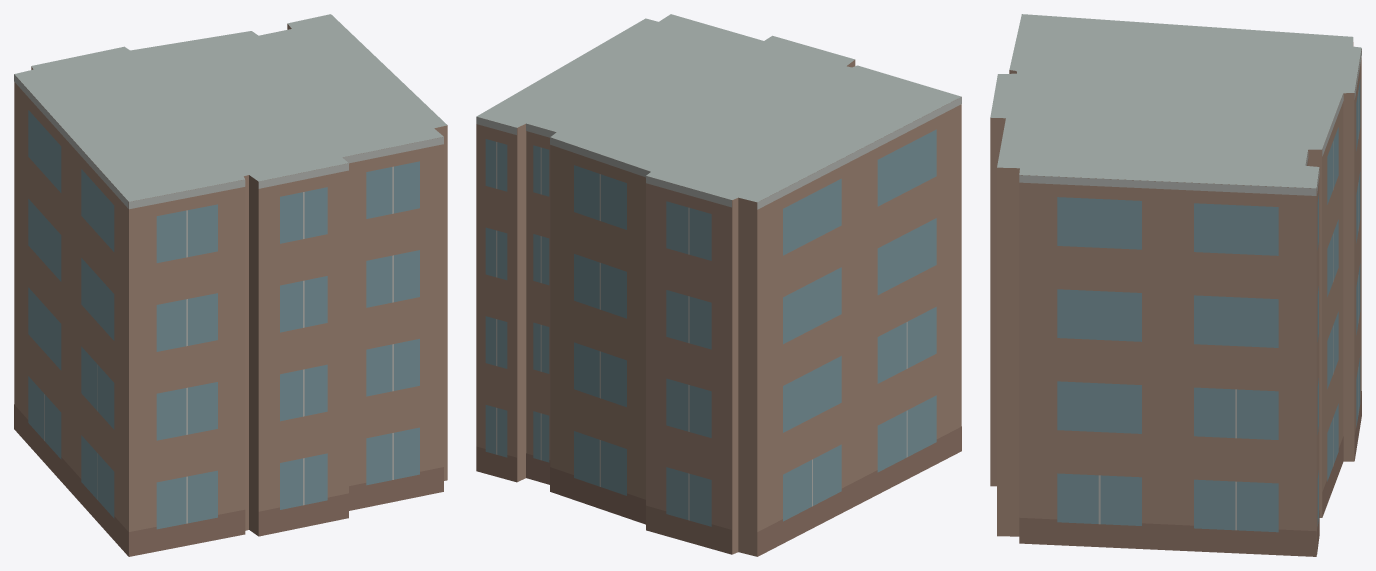
File: survey-upis-32808822.glb
The picture shows the model from 3 angles, left to right: view 1: azimuth 30°, elevation 25°; view 2: azimuth 150°, elevation 25°; view 3: azimuth 270°, elevation 25°; orthographic projection. The views are drawn at different scales.
Visible parts, largest first — view 1: survey-upis-32808822.tmp; view 2: survey-upis-32808822.tmp; view 3: survey-upis-32808822.tmp.
Part boxes in pixels (bbox=[...]): survey-upis-32808822.tmp: bbox=[14, 14, 447, 556]; survey-upis-32808822.tmp: bbox=[476, 14, 961, 556]; survey-upis-32808822.tmp: bbox=[990, 14, 1361, 556].
Bounding box in the file's own units: 11.88 × 11.7 × 10.7.
